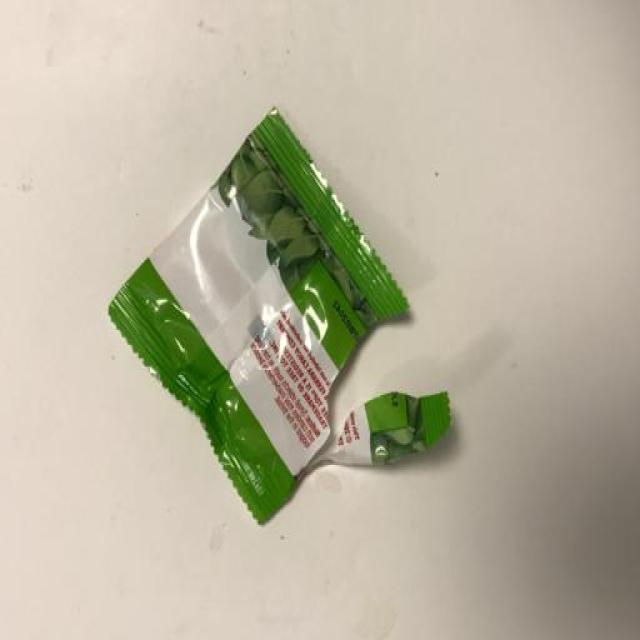Random Trash: (108, 107, 460, 523)
